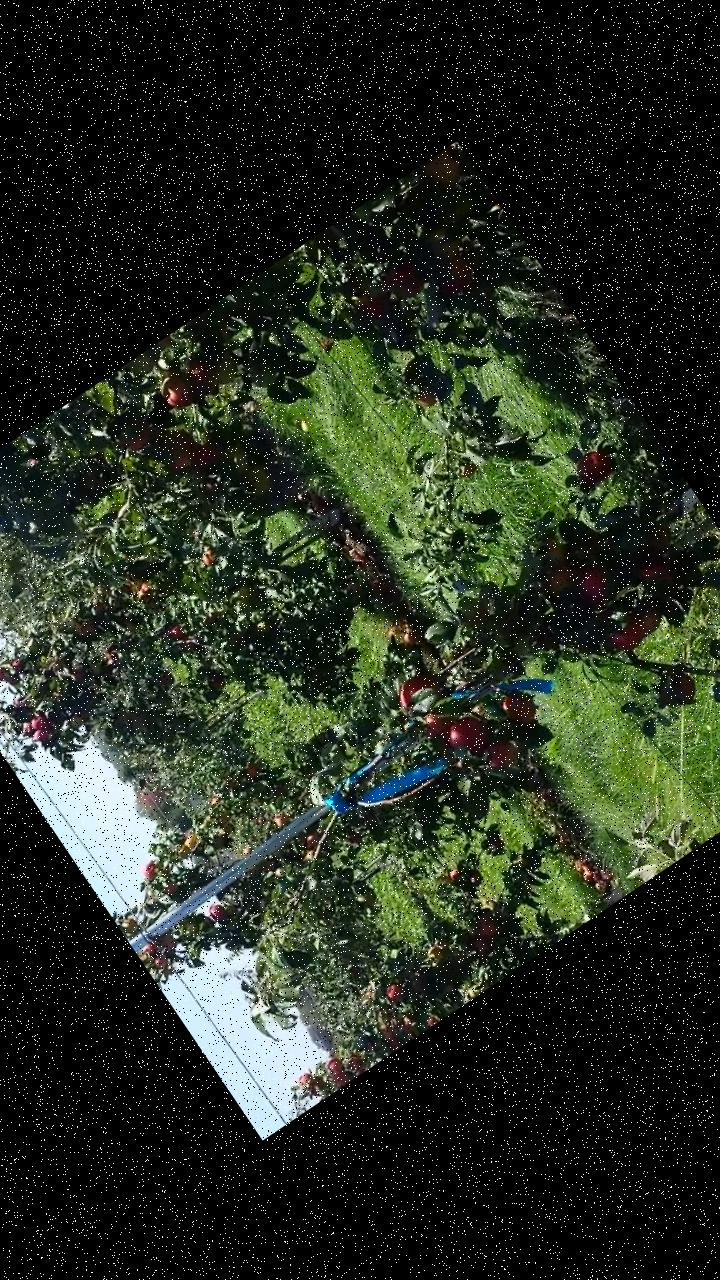Apple: (441, 709, 498, 766), (151, 364, 204, 418), (388, 662, 443, 712), (418, 146, 470, 198), (152, 423, 203, 475), (570, 440, 622, 490), (431, 252, 482, 302), (176, 350, 224, 402), (476, 732, 522, 779), (358, 284, 405, 330), (496, 681, 541, 729), (384, 258, 430, 302), (634, 554, 678, 600), (660, 668, 704, 713), (112, 411, 156, 455), (634, 518, 676, 562), (531, 533, 573, 574), (236, 460, 276, 502), (203, 347, 243, 388), (571, 564, 612, 604), (420, 706, 460, 746), (540, 557, 581, 596), (628, 602, 670, 639), (181, 438, 221, 475), (608, 620, 646, 656), (430, 230, 463, 264), (221, 442, 253, 477), (450, 454, 480, 484), (413, 386, 437, 412)
